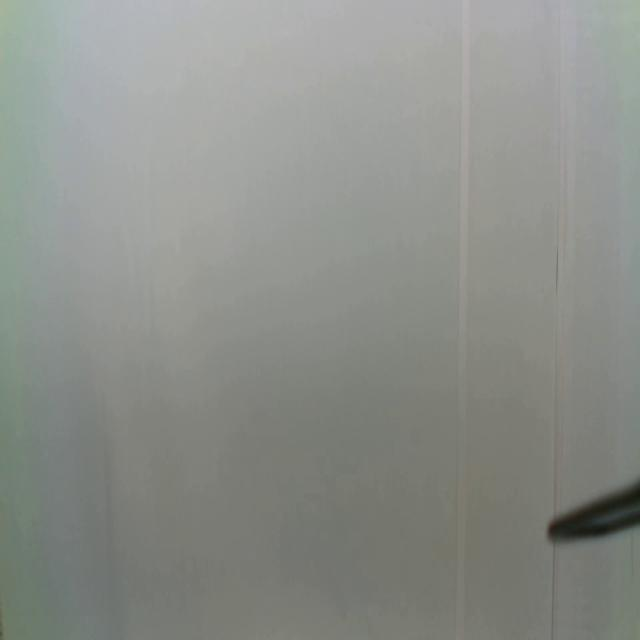crease: (551, 0, 579, 505), (454, 1, 470, 640), (548, 542, 562, 640)
